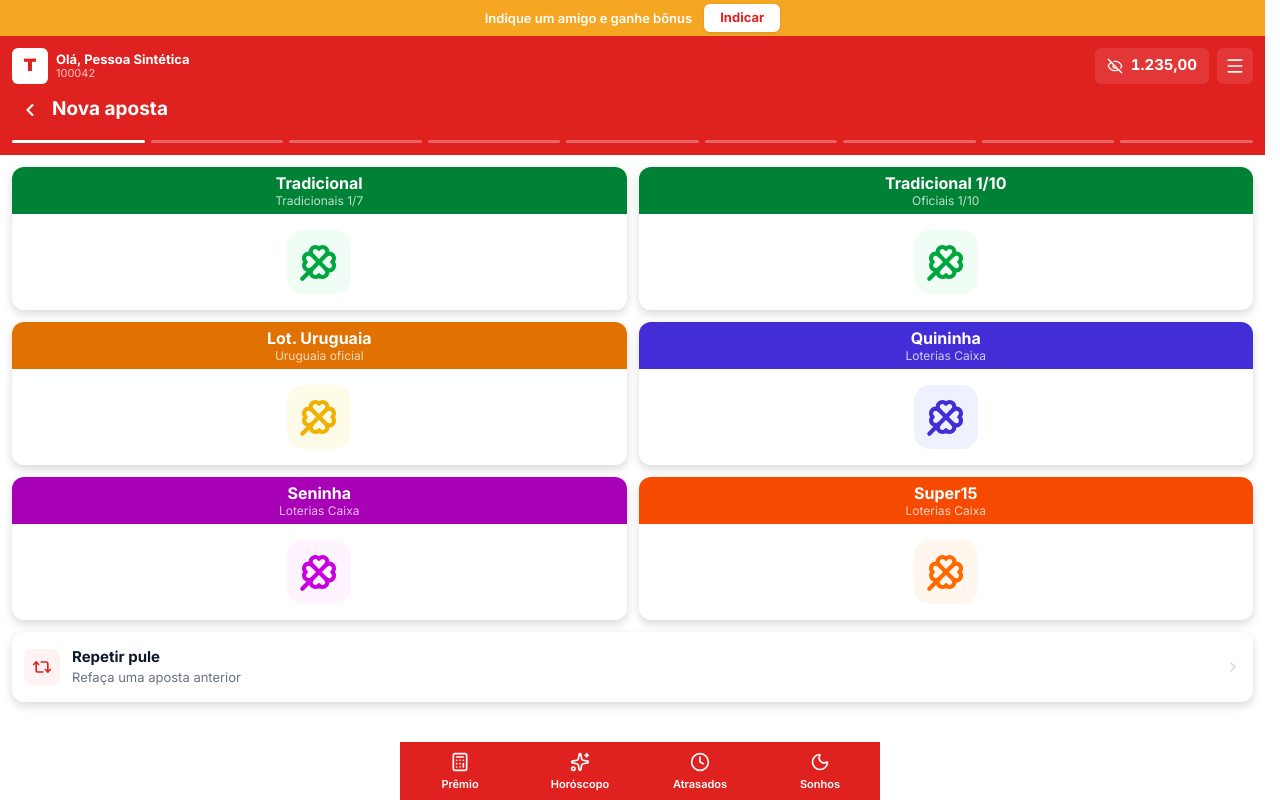
Scenario: Loterias › combos voltam dos palpites direto para a modalidade (a colocação é fixa)
Click the button "Tradicional Tradicionais 1/7".
click(319, 238)  # box [12,166,626,310]
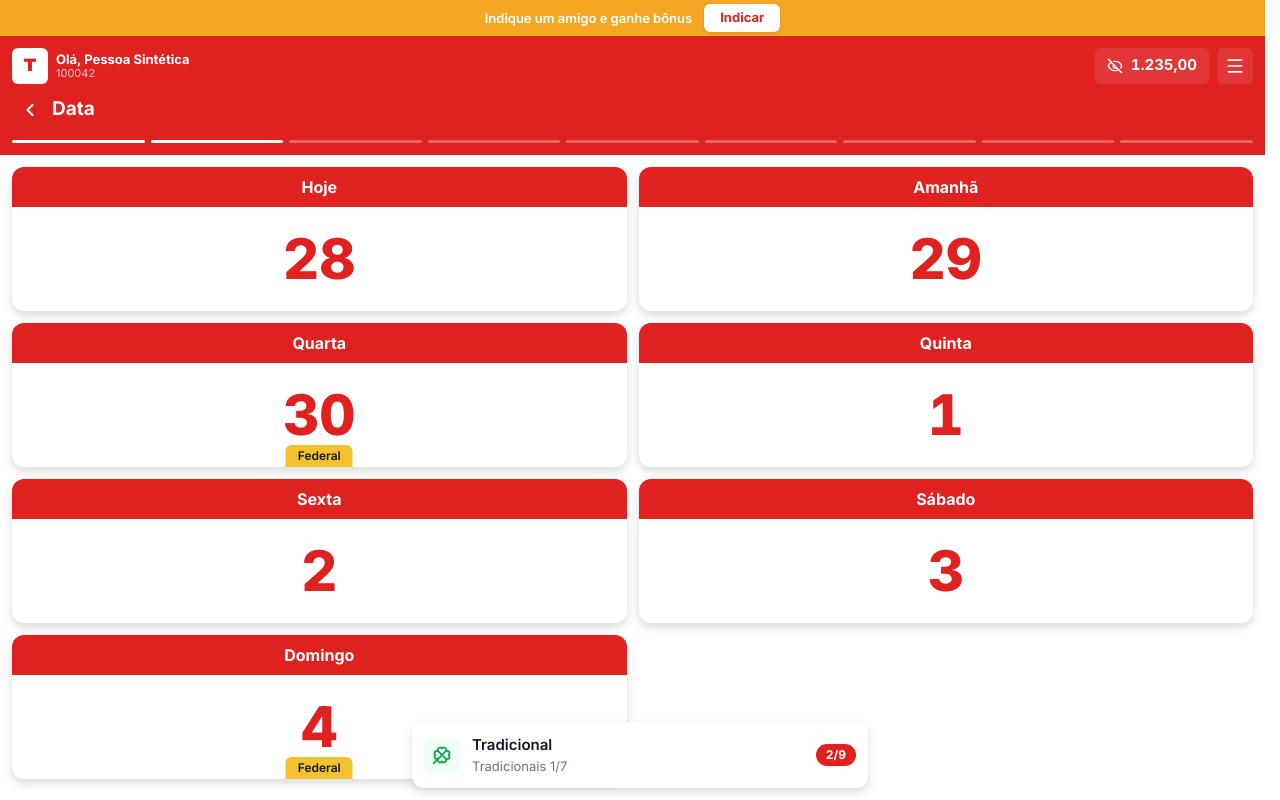
Click the button with aria-label "29/09/2026".
click(946, 238)  # box [638,166,1253,310]
(page scrolled)
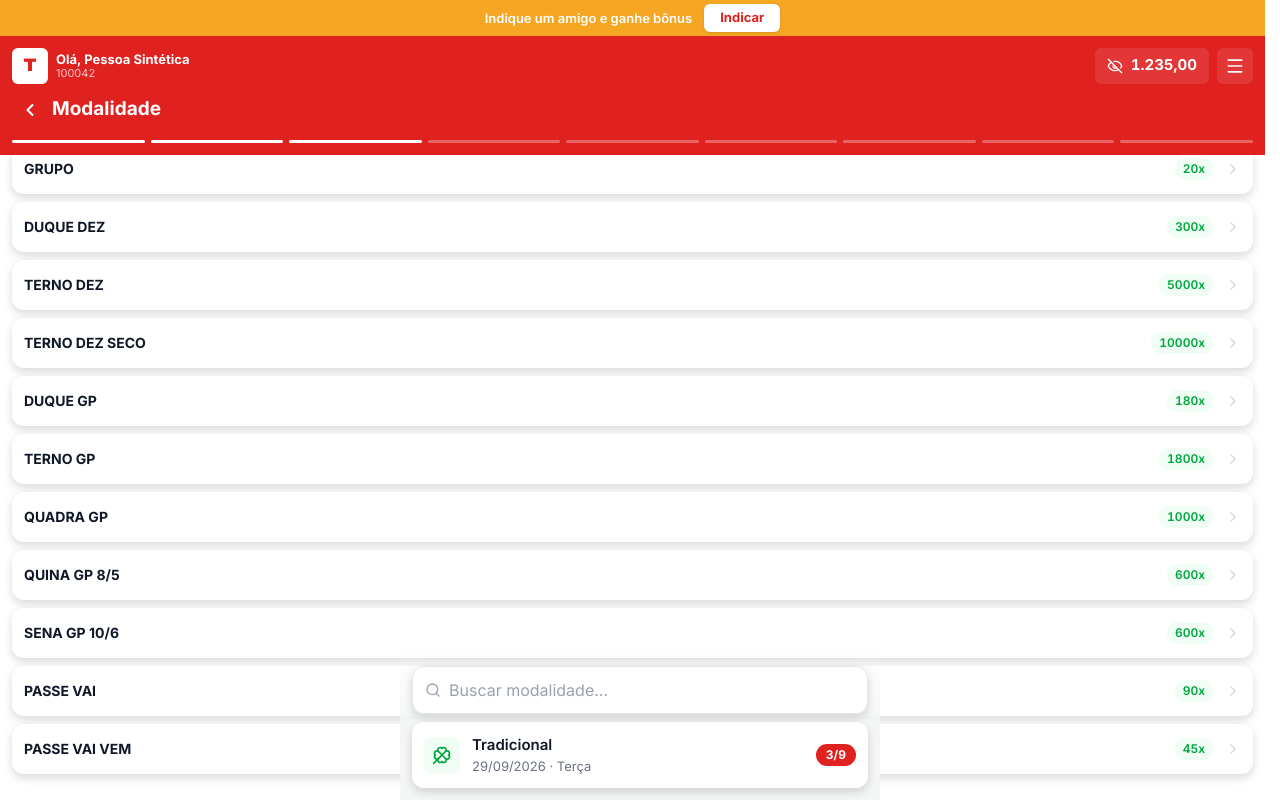
Click the button "DUQUE GP 180x".
click(60, 400)  # box [12,376,1253,426]
(page scrolled)
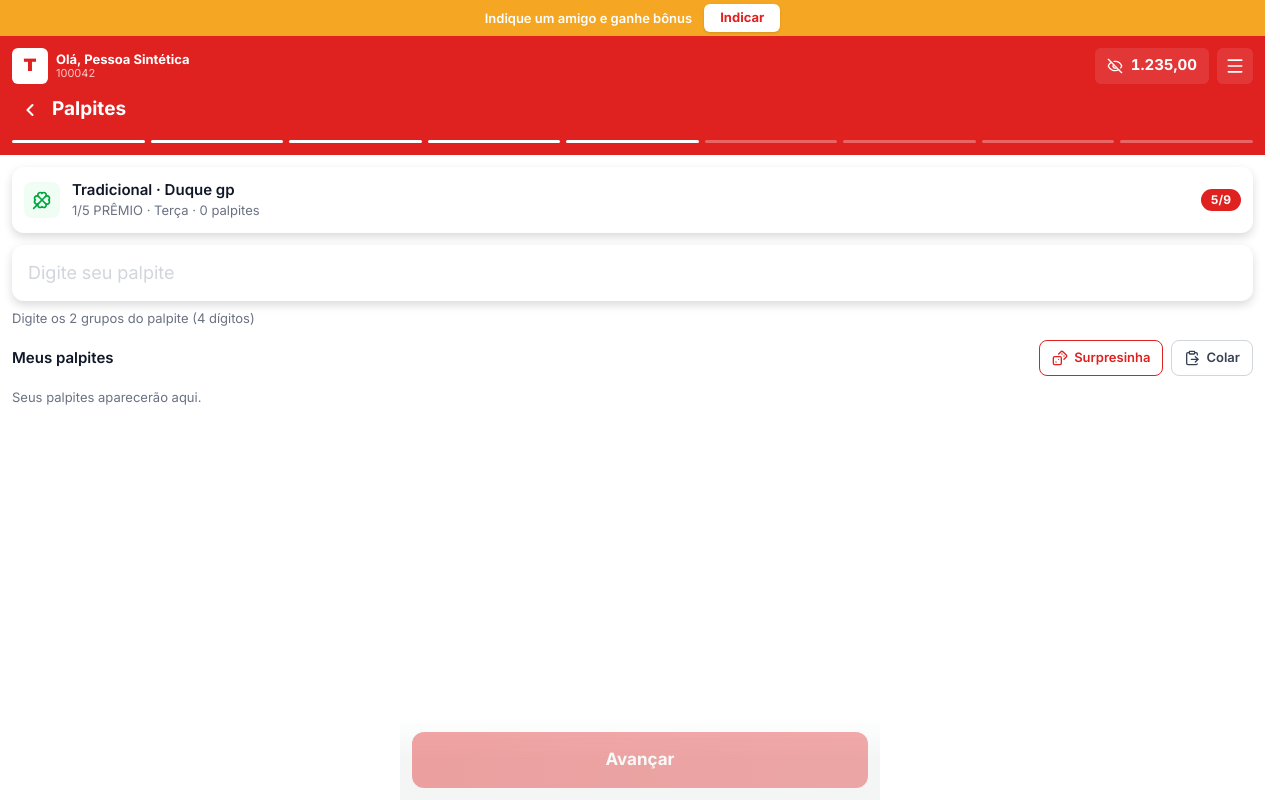
Expected: the heading "Palpites" is shown, [52,95,126,124]
Click the button named "Voltar".
click(30, 110)  # box [12,92,48,128]
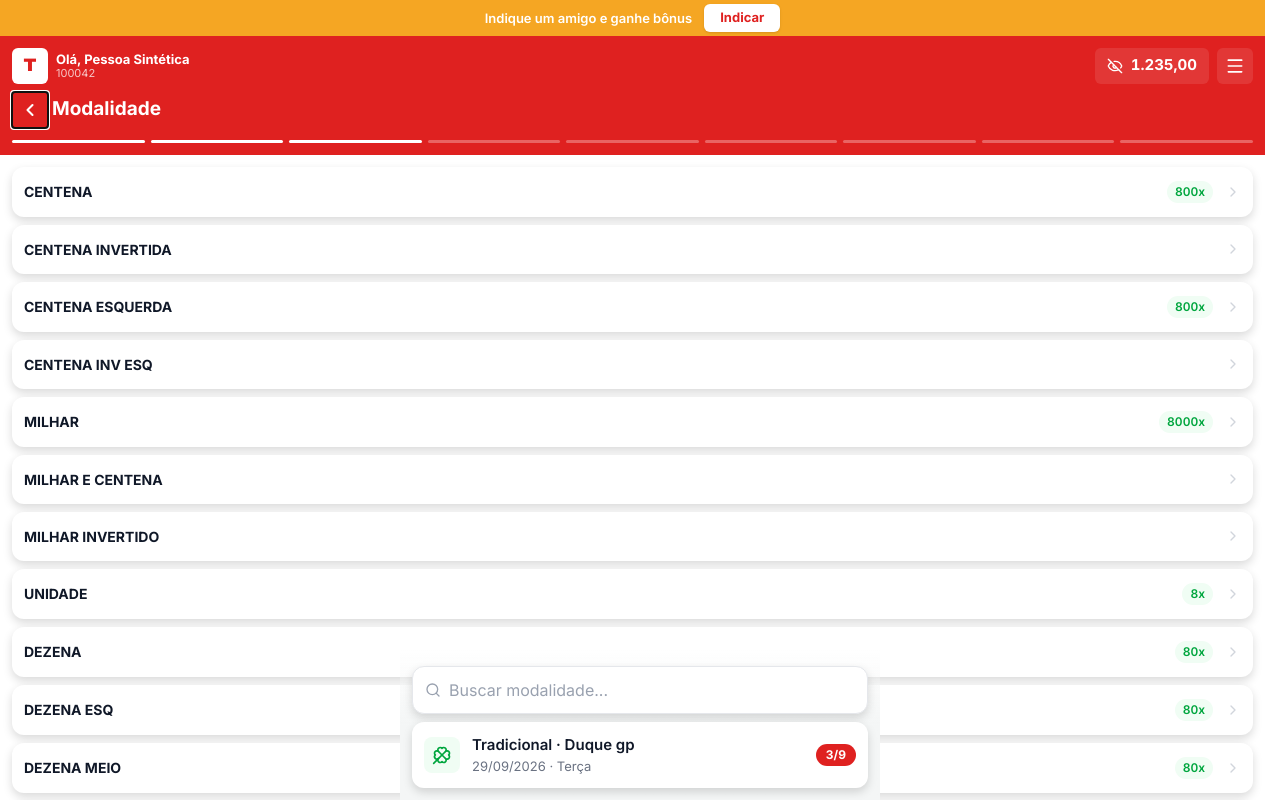
Expected: the heading reads "Modalidade", [52,97,161,120]
